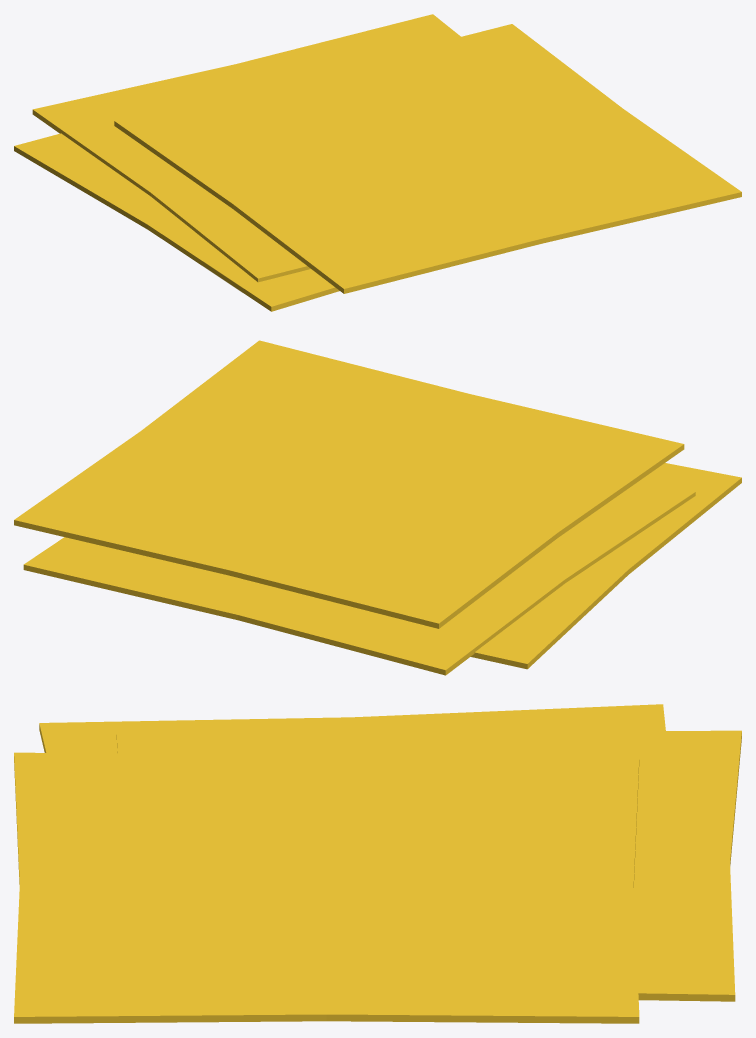
The model's file is Cheese_Singles.obj.
3 renders of one model, top to bottom at view 1: azimuth 30°, elevation 25°; view 2: azimuth 150°, elevation 25°; view 3: azimuth 270°, elevation 25°, orthographic. The views are drawn at different scales.
Parts seen in each view (by area): view 1: Cheese_Singles; view 2: Cheese_Singles; view 3: Cheese_Singles.
Boxes of the visible parts, left/top/right/bottom form: Cheese_Singles: left=14, top=14, right=741, bottom=311; Cheese_Singles: left=14, top=340, right=741, bottom=675; Cheese_Singles: left=14, top=704, right=741, bottom=1023.
Bounding box in the file's own units: 1.03 × 0.0284 × 0.9751.
